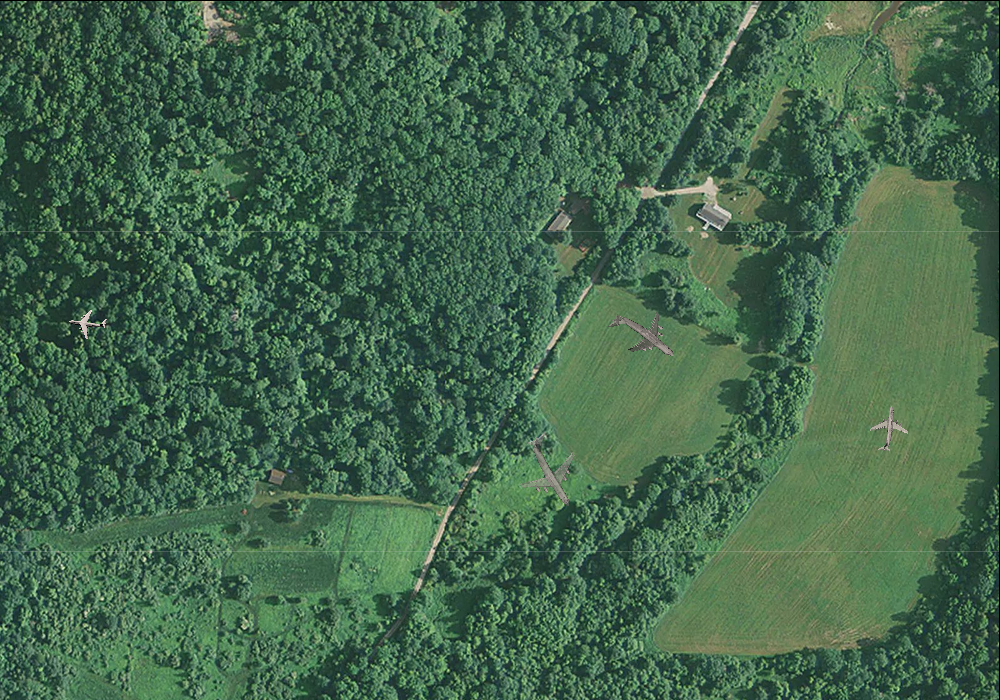plane: (500, 419, 602, 523), (596, 290, 690, 383), (864, 404, 912, 453), (66, 302, 108, 343)
